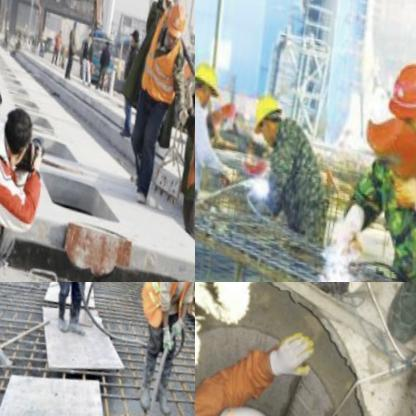helmet: (372, 45, 416, 146), (242, 82, 288, 145), (195, 54, 222, 111), (157, 0, 191, 44)
